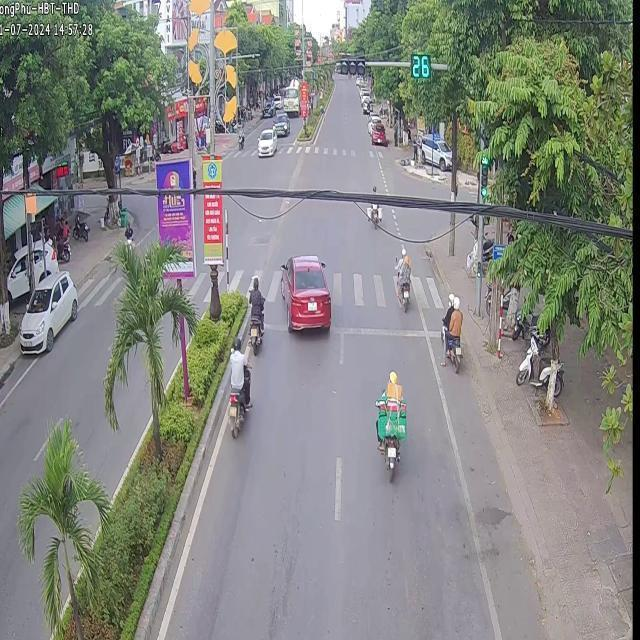car: (18, 269, 77, 351), (278, 254, 329, 331), (256, 125, 276, 156), (369, 118, 386, 144), (272, 109, 288, 136)
green_light: (411, 54, 429, 78), (478, 152, 487, 198), (338, 60, 365, 74)
motobike: (374, 394, 406, 480), (247, 274, 263, 354), (443, 307, 460, 371), (224, 387, 244, 436), (394, 247, 409, 309), (364, 202, 380, 227)
stop_line: (332, 325, 423, 335), (263, 321, 286, 330), (426, 329, 438, 336)
